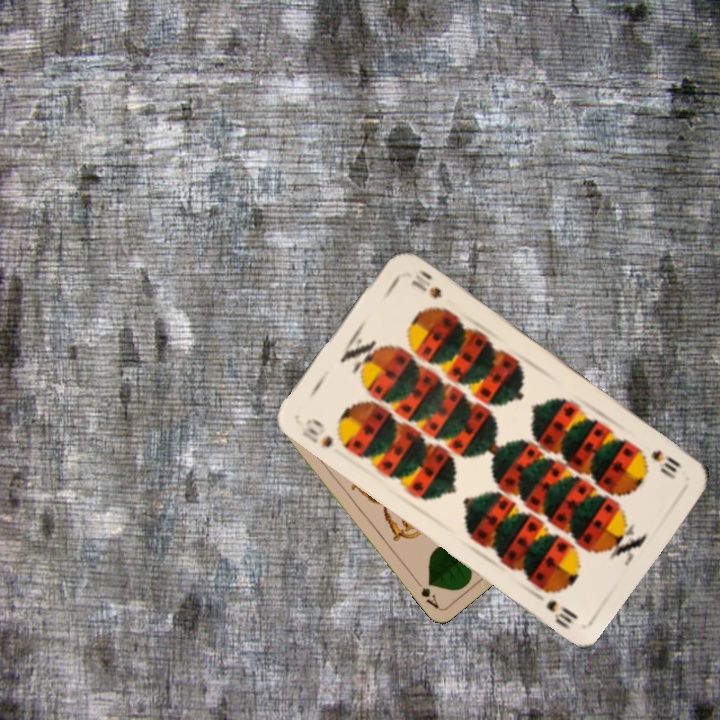S10: (298, 414, 336, 452), (647, 445, 684, 481)
